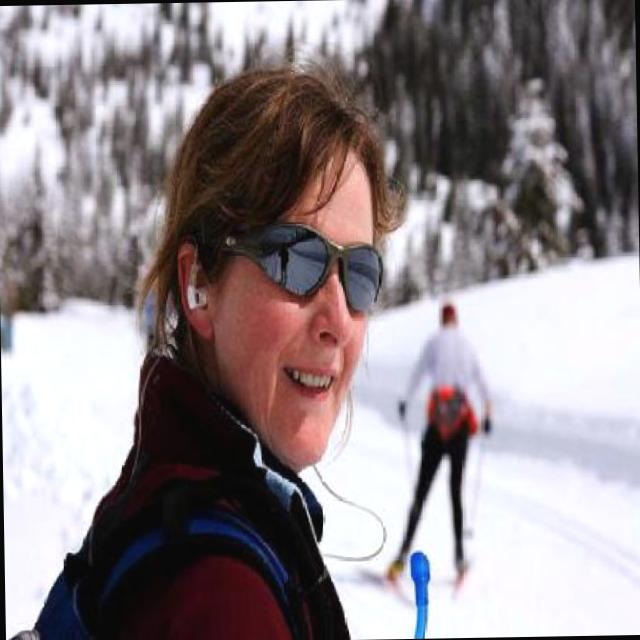Person: (11, 59, 412, 640), (384, 298, 494, 578)
